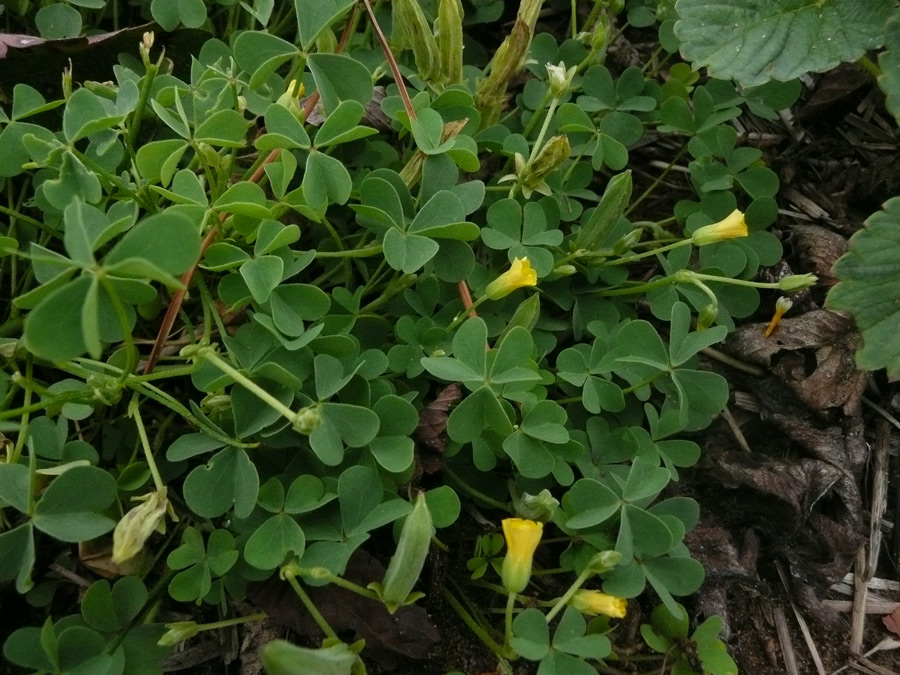oxalis: (65, 77, 715, 584)
